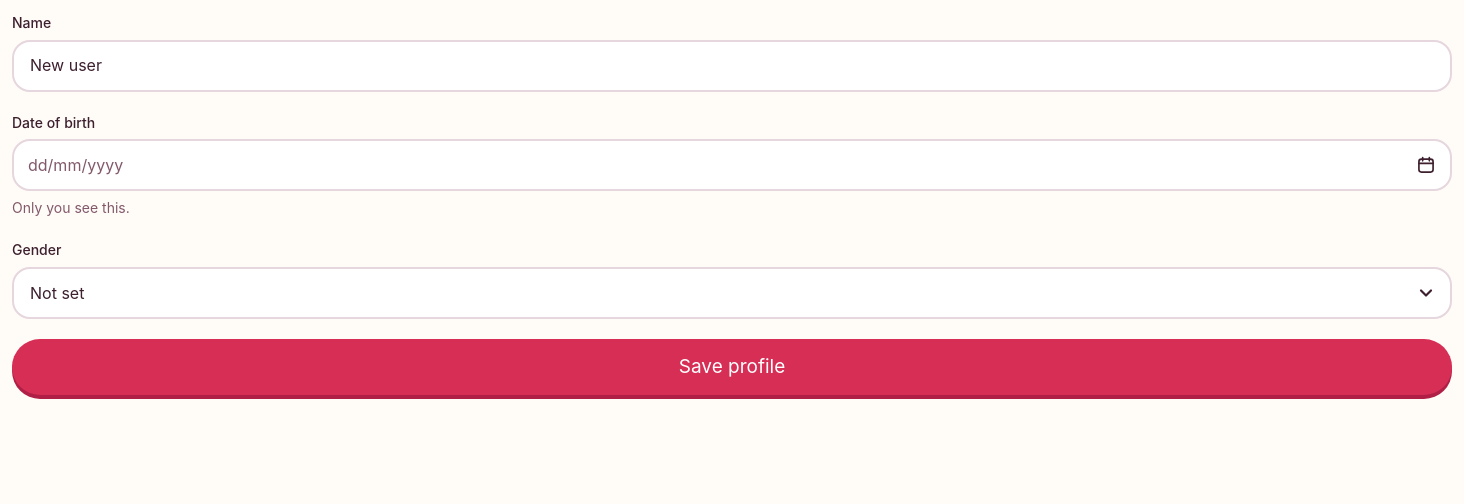
Test: ProfileForm › sends the edits, with empty optional fields as null
The image size is (1464, 504).
Step 1. Replace the text in the field labelled "Name" with " momo " → [732, 66], box [12,40,1452,92]
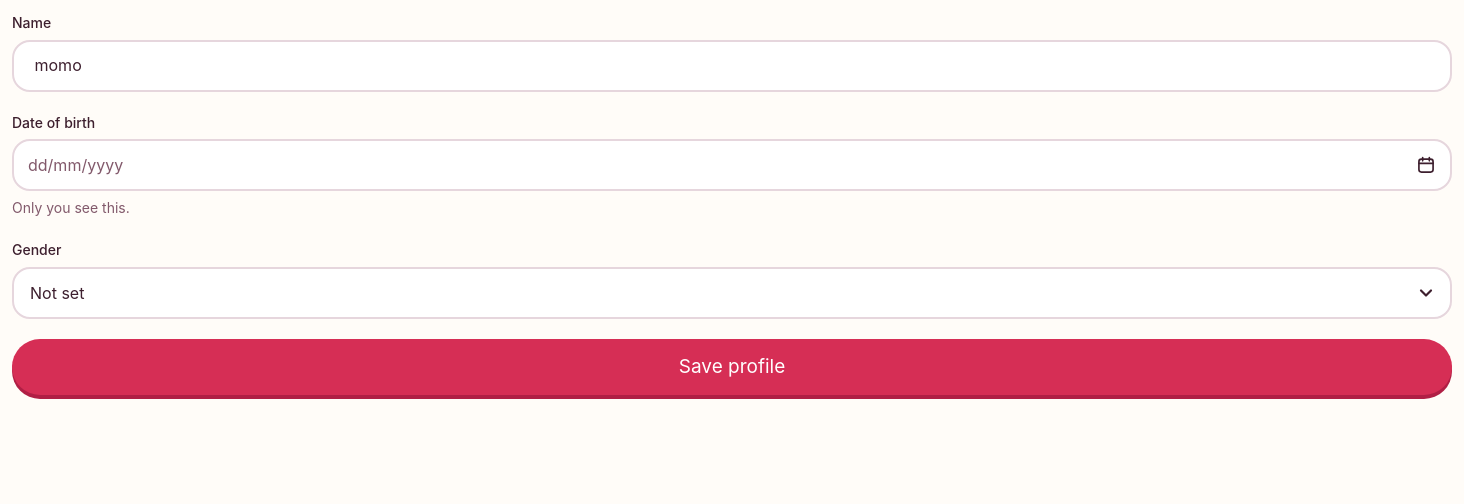
Step 2. Click the button "Save profile" → [732, 367], box [12,339,1452,395]
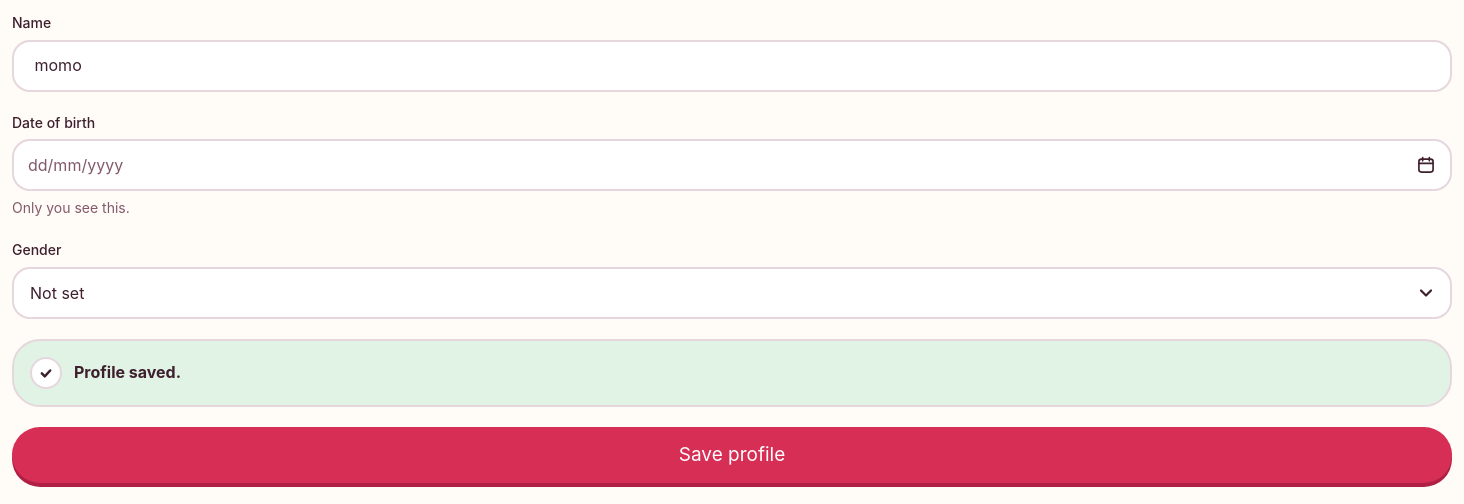
Now the message reads "Profile saved.", box [74,362,181,382]
